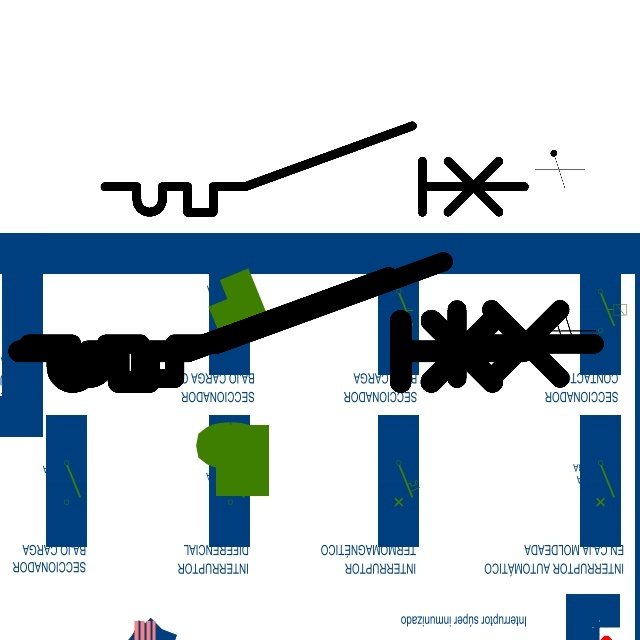interruptor_termomagnetico: (14, 247, 609, 393), (6, 265, 536, 395), (94, 115, 535, 223)
